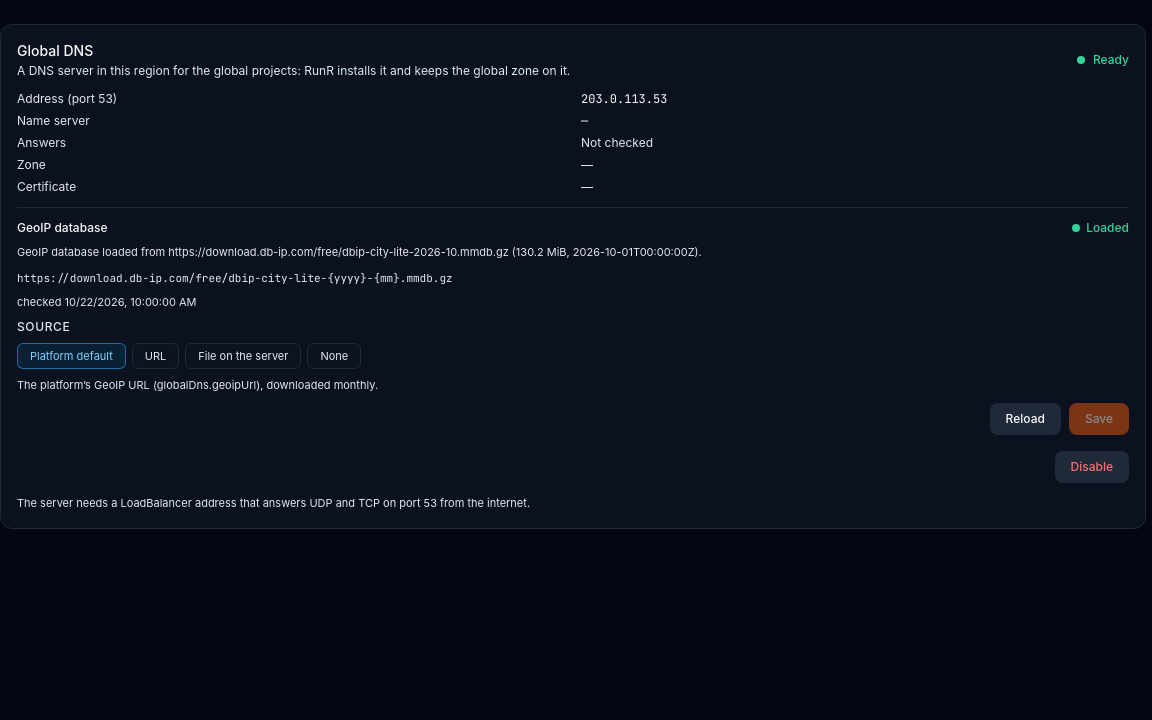
Region → Global DNS: GeoIP database › shows the API error of a refused source
Click the button "File on the server".
click(243, 356)  # box [185,343,301,369]
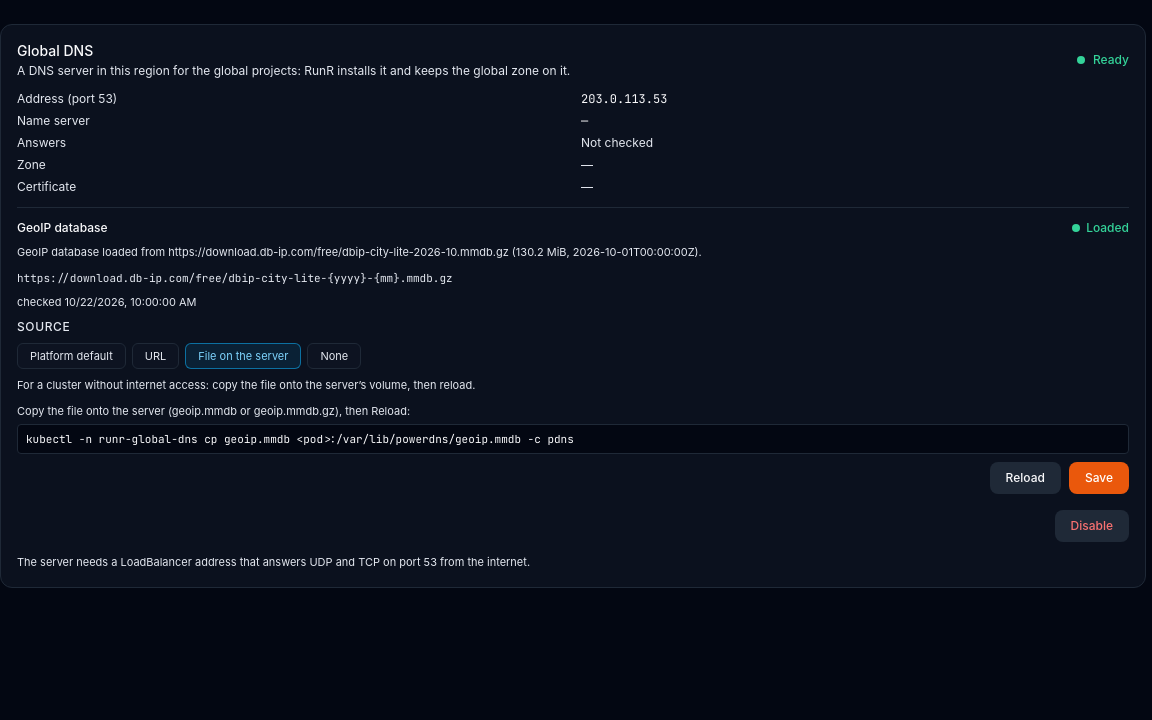
Click the button with test id "global-dns-geoip-save".
click(1099, 478)  # box [1069,462,1129,494]
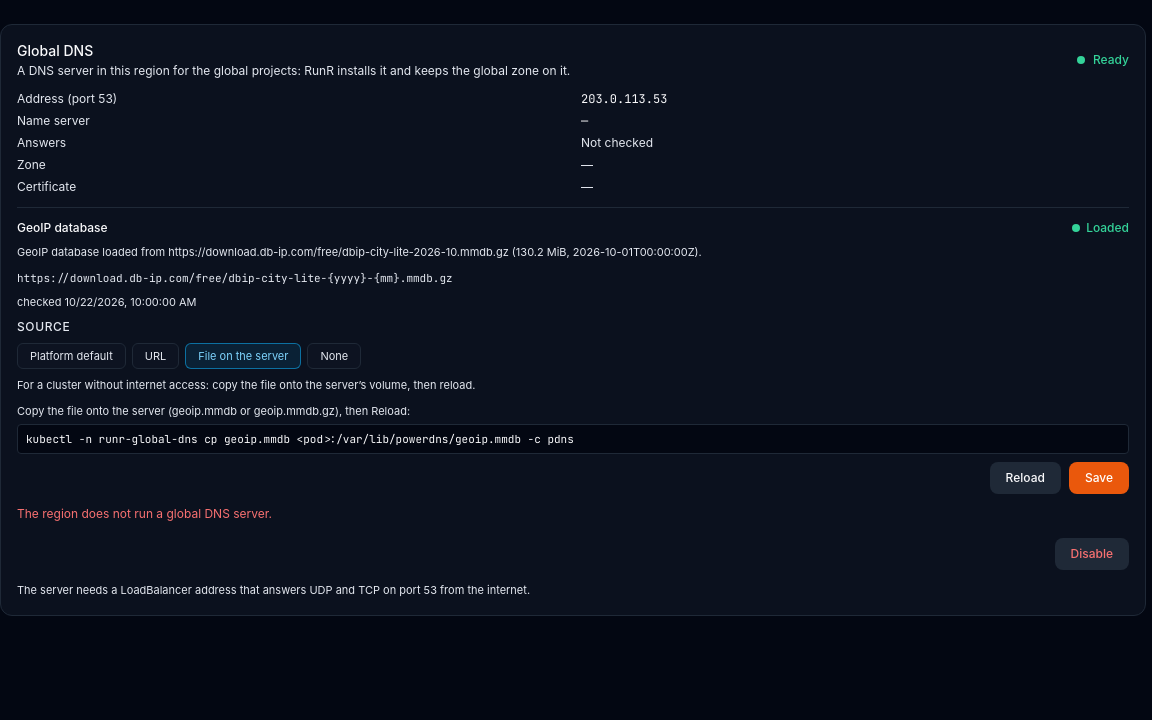
expect the text with test id "global-dns-error" reads "The region does not run a global DNS server.": met, box [17,506,272,521]
